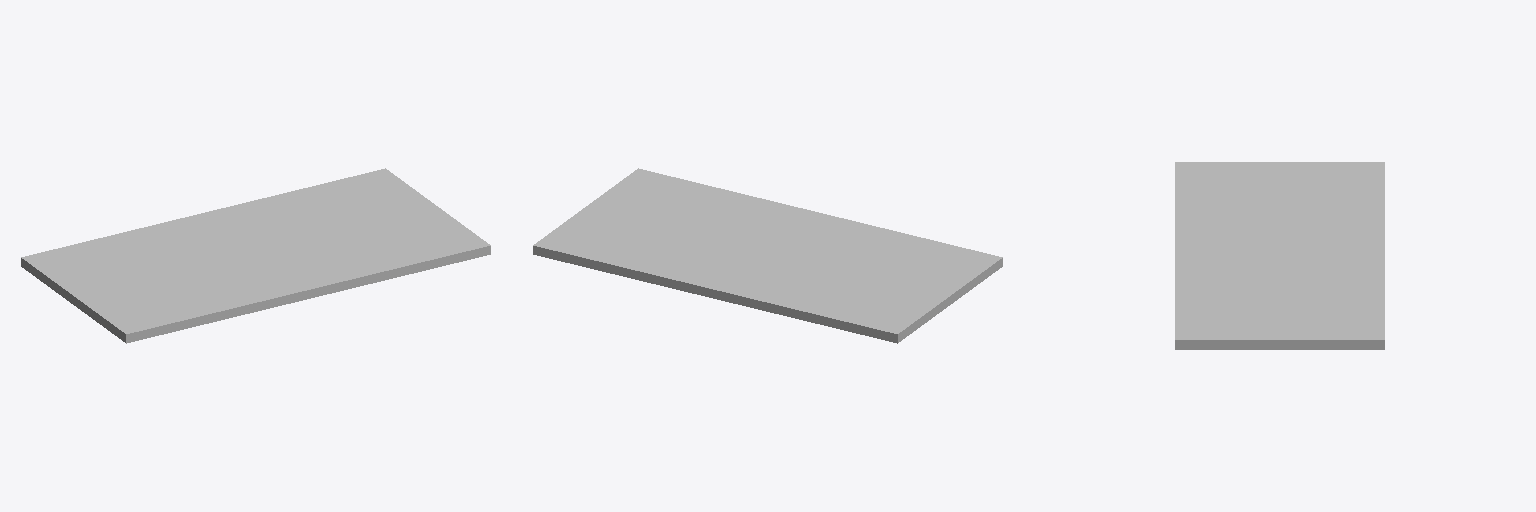
Rendered from road2.obj.
3 renders of one model, left to right at view 1: azimuth 30°, elevation 25°; view 2: azimuth 150°, elevation 25°; view 3: azimuth 270°, elevation 25°, orthographic.
Visible parts, largest first — view 1: object 1; view 2: object 1; view 3: object 1.
Part boxes in pixels (left/top/right/bottom): object 1: left=21, top=168, right=490, bottom=343; object 1: left=533, top=168, right=1002, bottom=343; object 1: left=1175, top=162, right=1384, bottom=349.
Size of the model in its own units: 4.2 by 0.1 by 2.1.